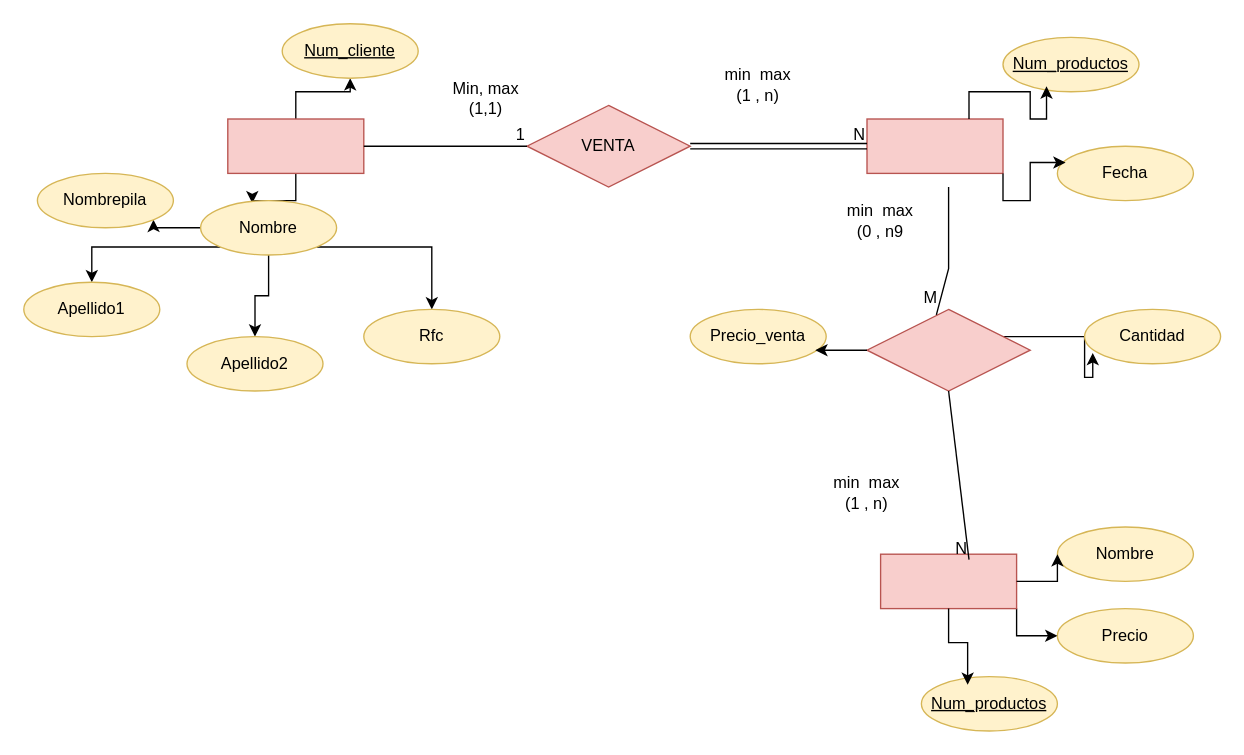
Some shapes in this 1244 by 755 pixel diagram are drawn without their labels. Each missing label, with the centre of its shape:
"CLIENTE" goes at point 295,145.
"PEDIDO" goes at point 934,145.
"Producto" goes at point 948,581.
"VEBTA" goes at point 948,349.
